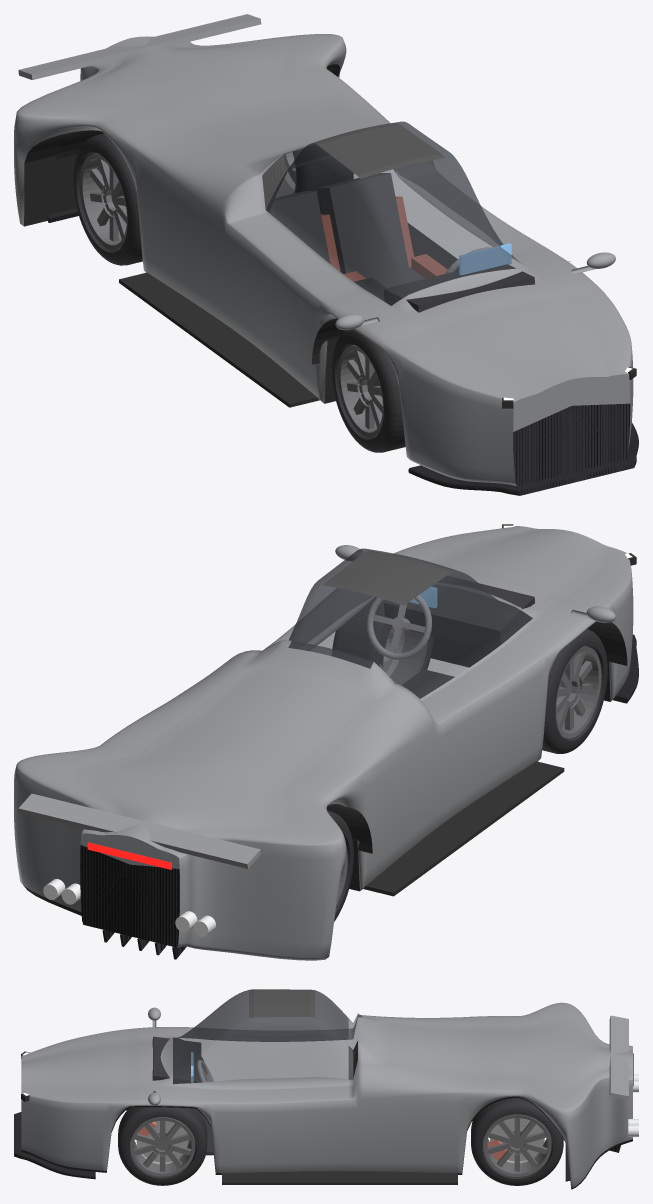
The model's file is acura-nsx-type-s.glb.
3 renders of one model, top to bottom at view 1: azimuth 30°, elevation 25°; view 2: azimuth 150°, elevation 25°; view 3: azimuth 270°, elevation 25°, orthographic. The views are drawn at different scales.
Visible parts, largest first — view 1: Body_PrimaryPaint, Glass_Windows, Carbon_Exterior, Interior_Seats, WheelWells, Body_SecondaryPaint, Underbody, Tire_FR, Rim_RR, Tire_RR, Rim_FR, Body_Spoiler (+4 smaller); view 2: Body_PrimaryPaint, Glass_Windows, Carbon_Exterior, WheelWells, Interior_Dashboard, Body_Spoiler, Body_SecondaryPaint, Rim_FR, Tire_FR, Tire_FL, Underbody, Interior_SteeringWheel (+5 smaller); view 3: Body_PrimaryPaint, Glass_Windows, WheelWells, Tire_FL, Tire_RL, Rim_RL, Rim_FL, Body_SecondaryPaint, Interior_Dashboard, Body_Spoiler, Carbon_Exterior, Underbody (+3 smaller).
Boxes of the visible parts, x1,y1,x2,y2 form: Body_PrimaryPaint: (14,34,633,485); Glass_Windows: (269,121,529,305); Carbon_Exterior: (47,208,638,495); Interior_Seats: (269,173,424,287); WheelWells: (56,130,569,407); Body_SecondaryPaint: (262,122,445,212); Underbody: (24,64,339,403); Tire_FR: (331,329,405,452); Rim_RR: (79,153,127,250); Tire_RR: (73,133,142,265); Rim_FR: (337,345,383,437); Body_Spoiler: (18,14,261,79); Body_PrimaryPaint: (14,526,633,960); Glass_Windows: (288,548,532,698); Carbon_Exterior: (80,634,638,959); WheelWells: (326,621,627,896); Interior_Dashboard: (383,576,534,650); Body_Spoiler: (18,793,261,868); Body_SecondaryPaint: (288,550,453,671); Rim_FR: (555,646,601,738); Tire_FR: (542,628,607,753); Tire_FL: (332,597,434,670); Underbody: (21,636,610,915); Interior_SteeringWheel: (366,595,432,659); Body_PrimaryPaint: (21,1002,632,1188); Glass_Windows: (173,990,362,1084); WheelWells: (222,1171,457,1184); Tire_FL: (118,1107,207,1185); Tire_RL: (471,1098,563,1185); Rim_RL: (483,1114,551,1176); Rim_FL: (130,1117,195,1176); Body_SecondaryPaint: (249,989,357,1079); Interior_Dashboard: (152,1036,201,1084); Body_Spoiler: (609,1015,628,1099); Carbon_Exterior: (14,1112,620,1181); Underbody: (21,1096,632,1189).
Size of the model in its own units: 1.95 by 1.21 by 4.63.
17 materials, 2 textured.
